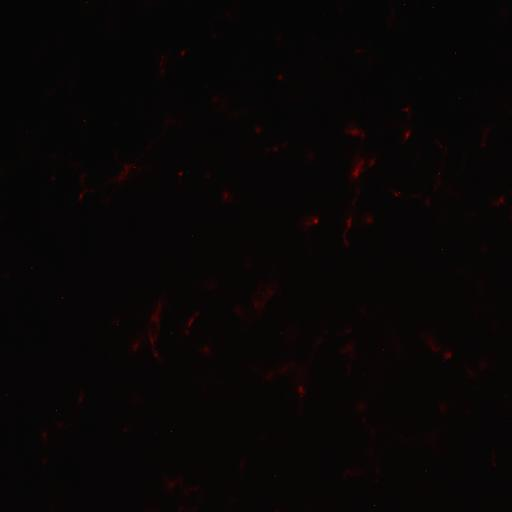microglia: (261, 325, 330, 420), (336, 408, 390, 484), (105, 125, 162, 194), (127, 294, 168, 365), (233, 277, 282, 326), (40, 388, 87, 438), (342, 154, 379, 206), (425, 138, 449, 197), (161, 473, 202, 505), (208, 92, 250, 121), (420, 332, 457, 364), (159, 46, 188, 77), (106, 318, 126, 360), (462, 354, 493, 380), (182, 308, 205, 340), (340, 212, 356, 252), (336, 122, 372, 139), (402, 104, 416, 141), (302, 212, 320, 240), (75, 170, 90, 200), (385, 4, 399, 32), (479, 125, 493, 149), (265, 141, 290, 154), (491, 195, 508, 208), (221, 190, 234, 203), (158, 56, 166, 76), (304, 150, 314, 164), (78, 390, 85, 403), (354, 48, 369, 54), (402, 107, 410, 112)
